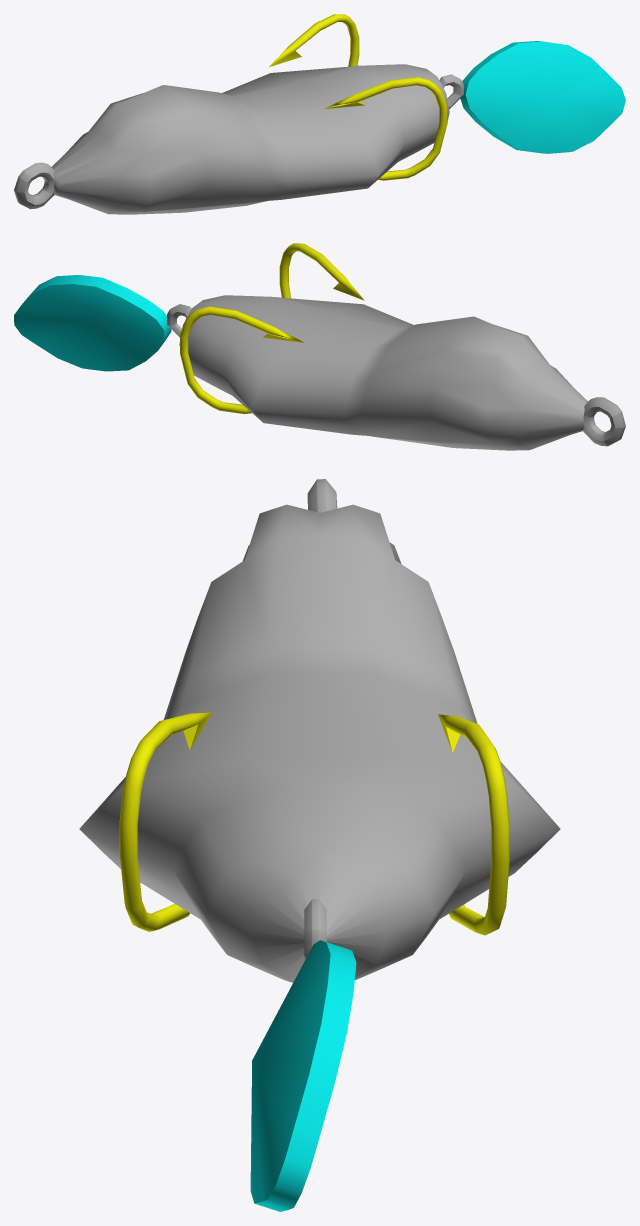
Rendered from Flog.fbx.
The picture shows the model from 3 angles, top to bottom: view 1: azimuth 30°, elevation 25°; view 2: azimuth 150°, elevation 25°; view 3: azimuth 270°, elevation 25°; orthographic projection. The views are drawn at different scales.
Parts seen in each view (by area): view 1: polySurface453; view 2: polySurface453; view 3: polySurface453.
Boxes of the visible parts, x1,y1,x2,y2 form: polySurface453: (14, 14, 625, 214); polySurface453: (14, 243, 625, 450); polySurface453: (79, 479, 560, 1211).
Size of the model in its own units: 0.0882 by 0.0203 by 0.0307.
